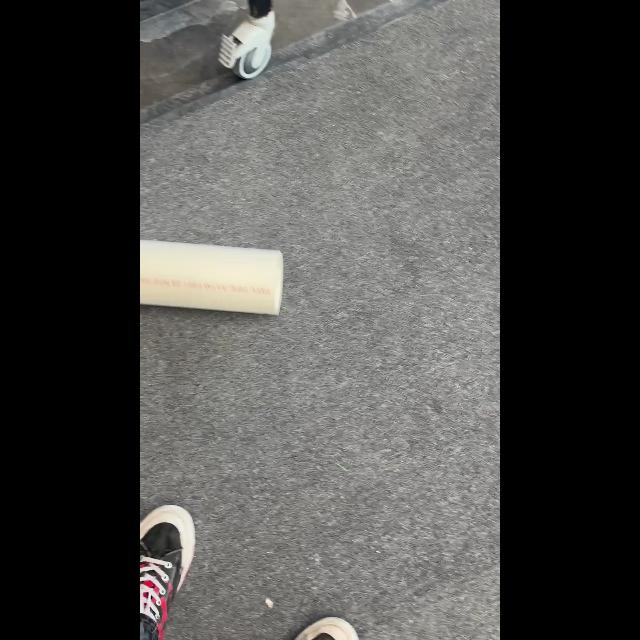CORAL: (140, 238, 284, 316), (217, 9, 275, 79)
